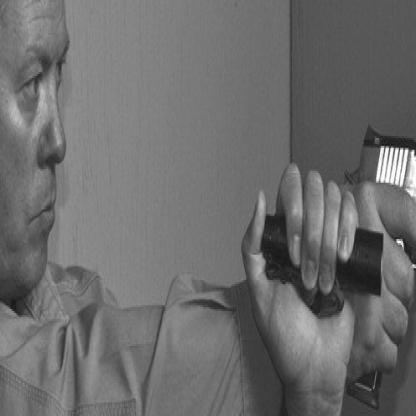gun: (344, 111, 415, 414)
